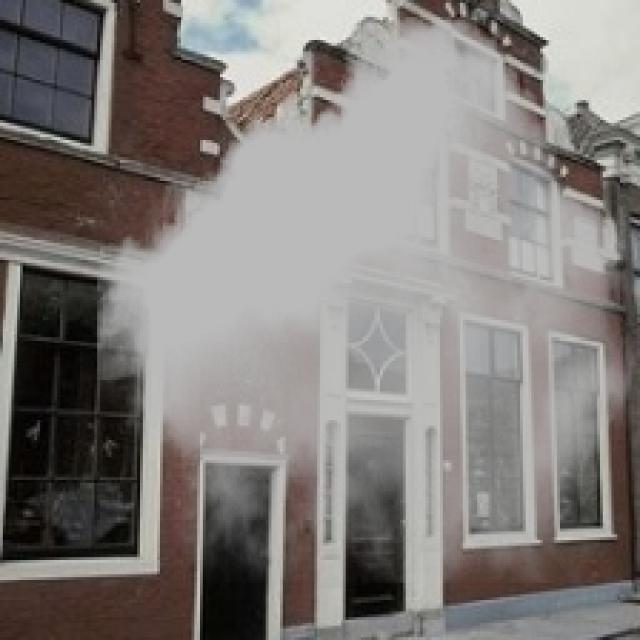Smoke: (97, 17, 634, 583)
